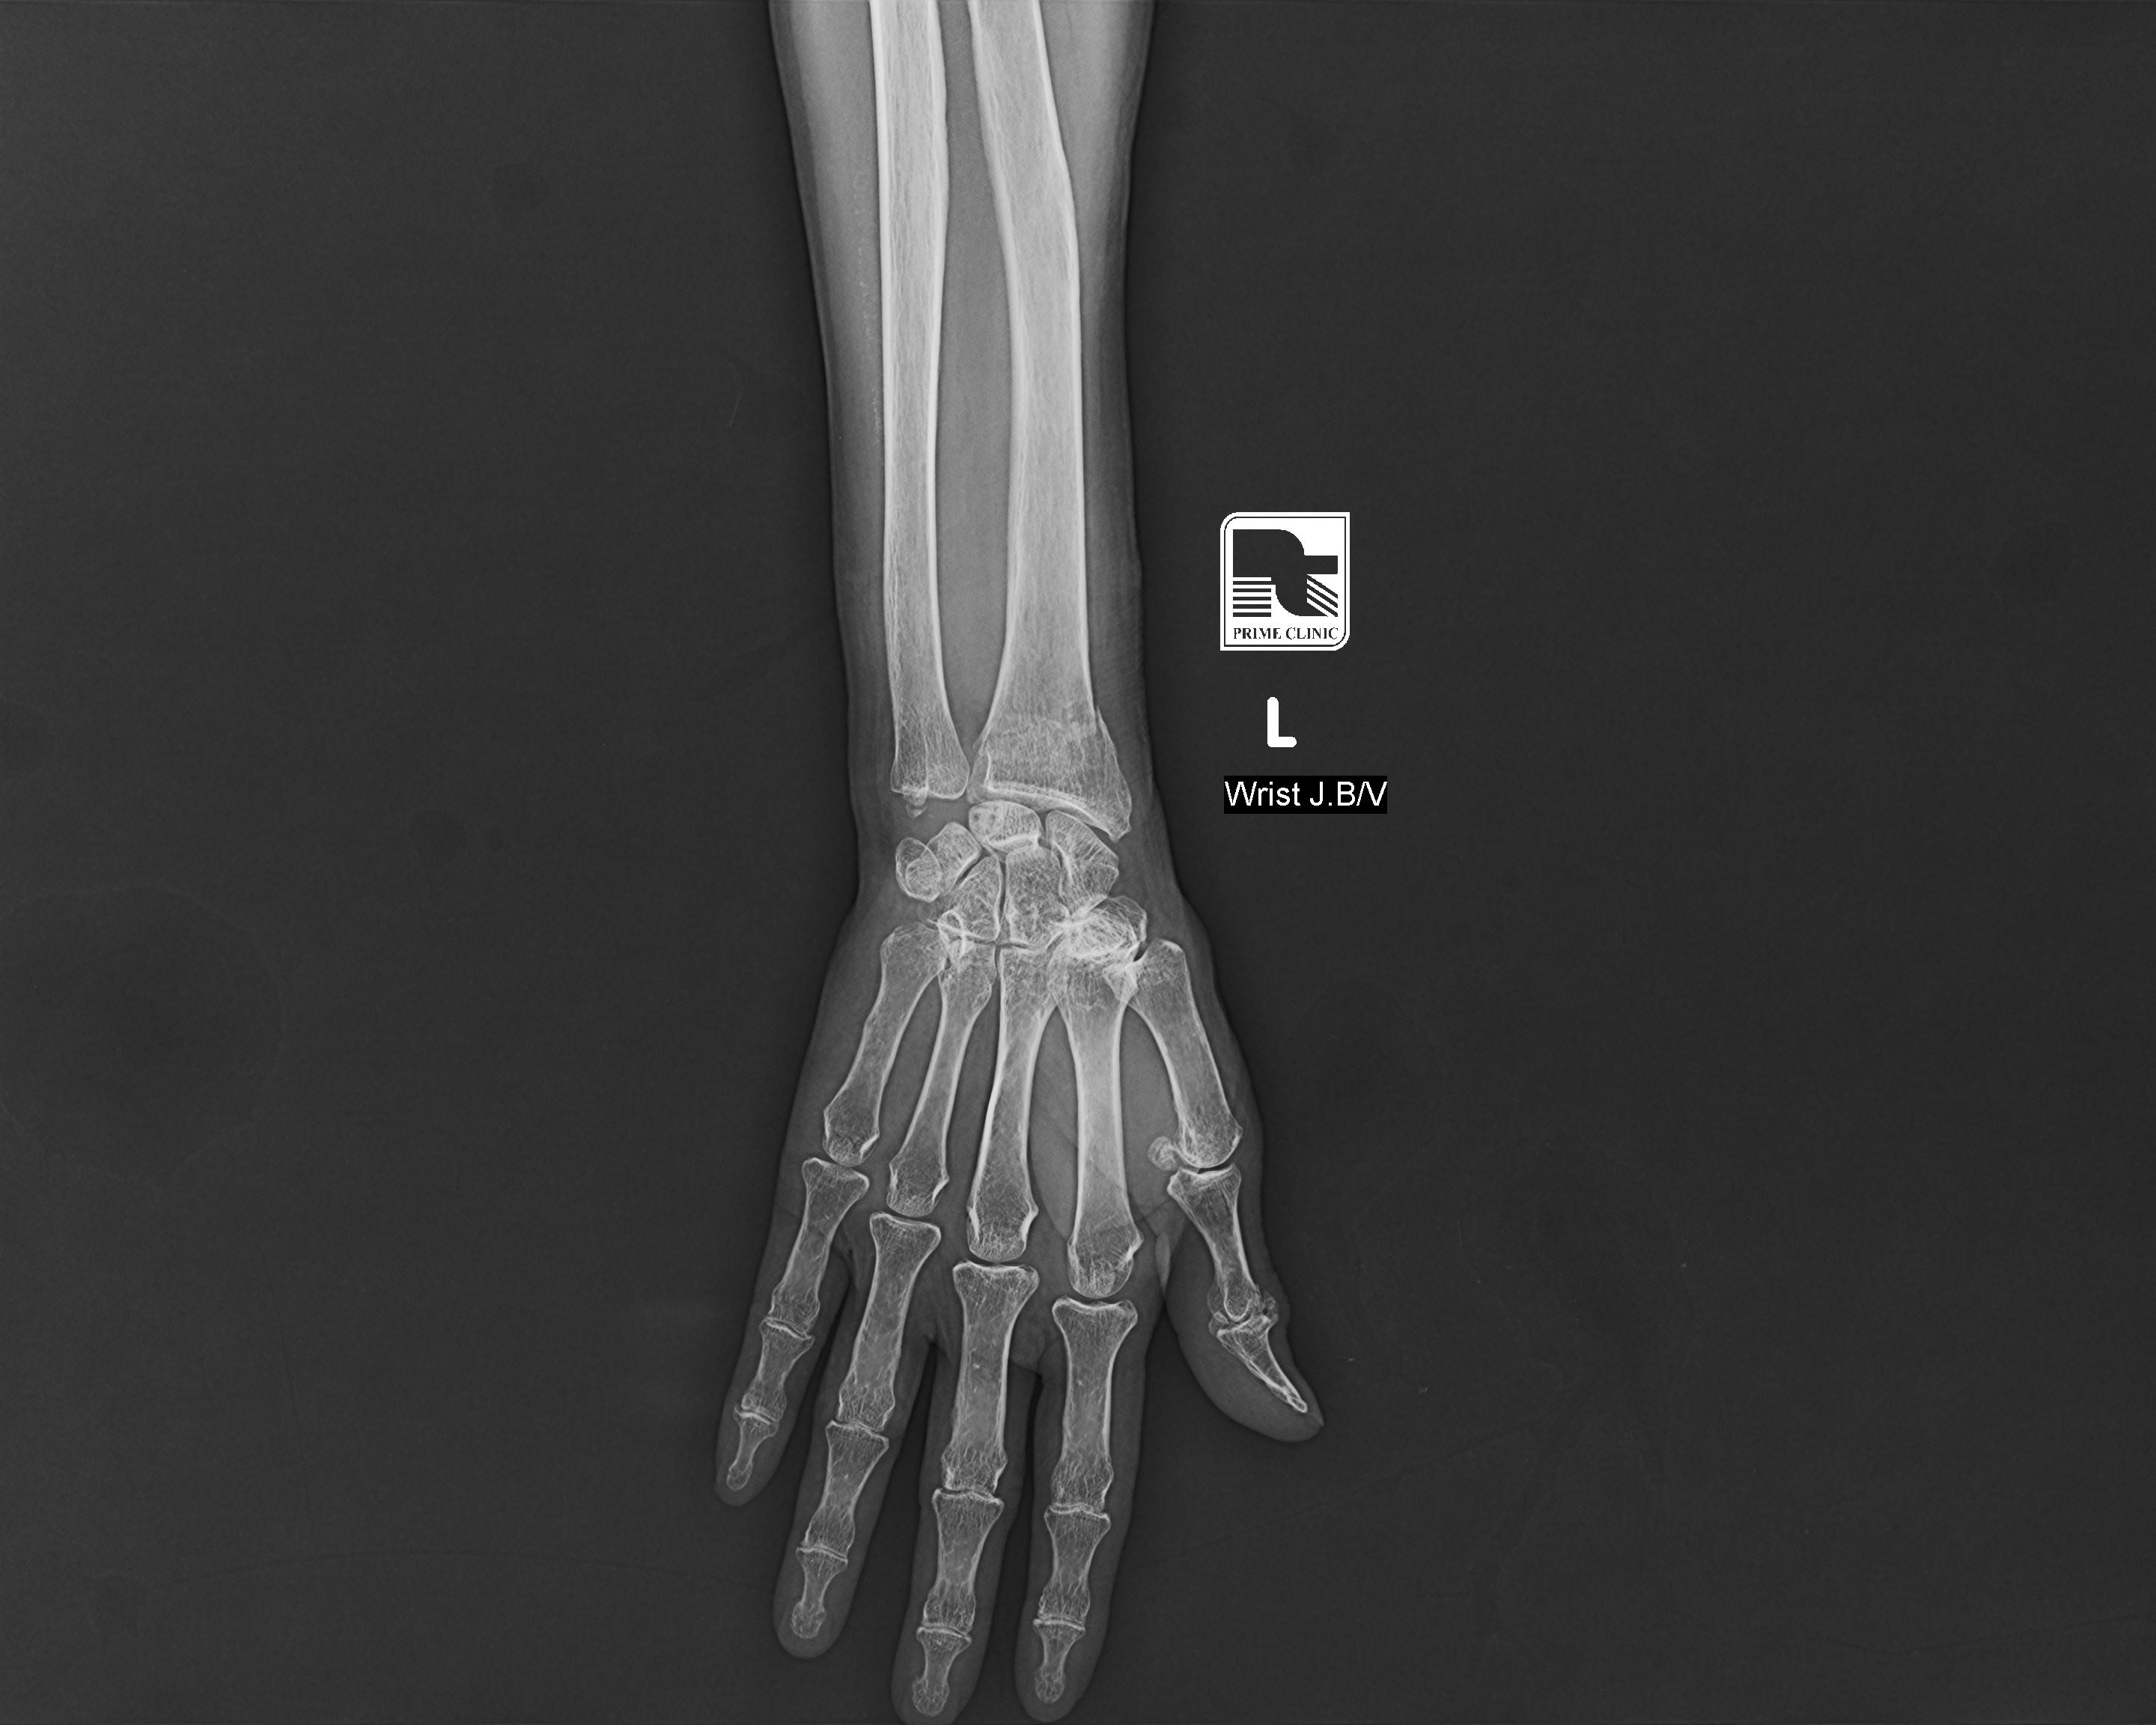fractured: (970, 674, 1123, 782)
